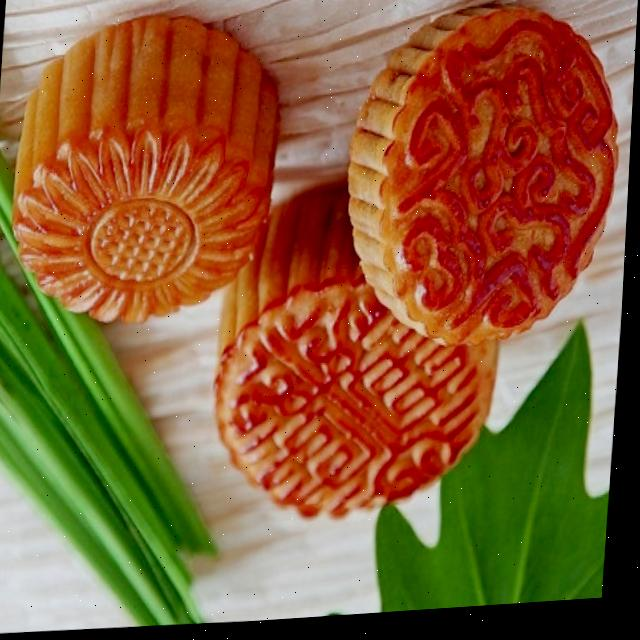蛋糕甜品: (0, 0, 640, 561)
